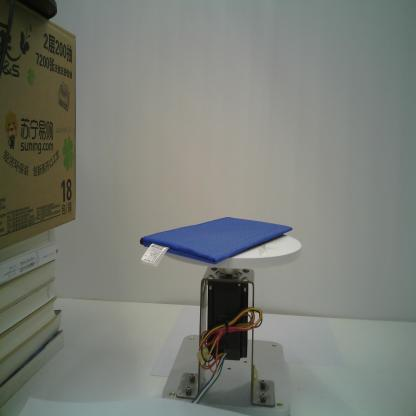Stationery: (138, 214, 294, 270)
